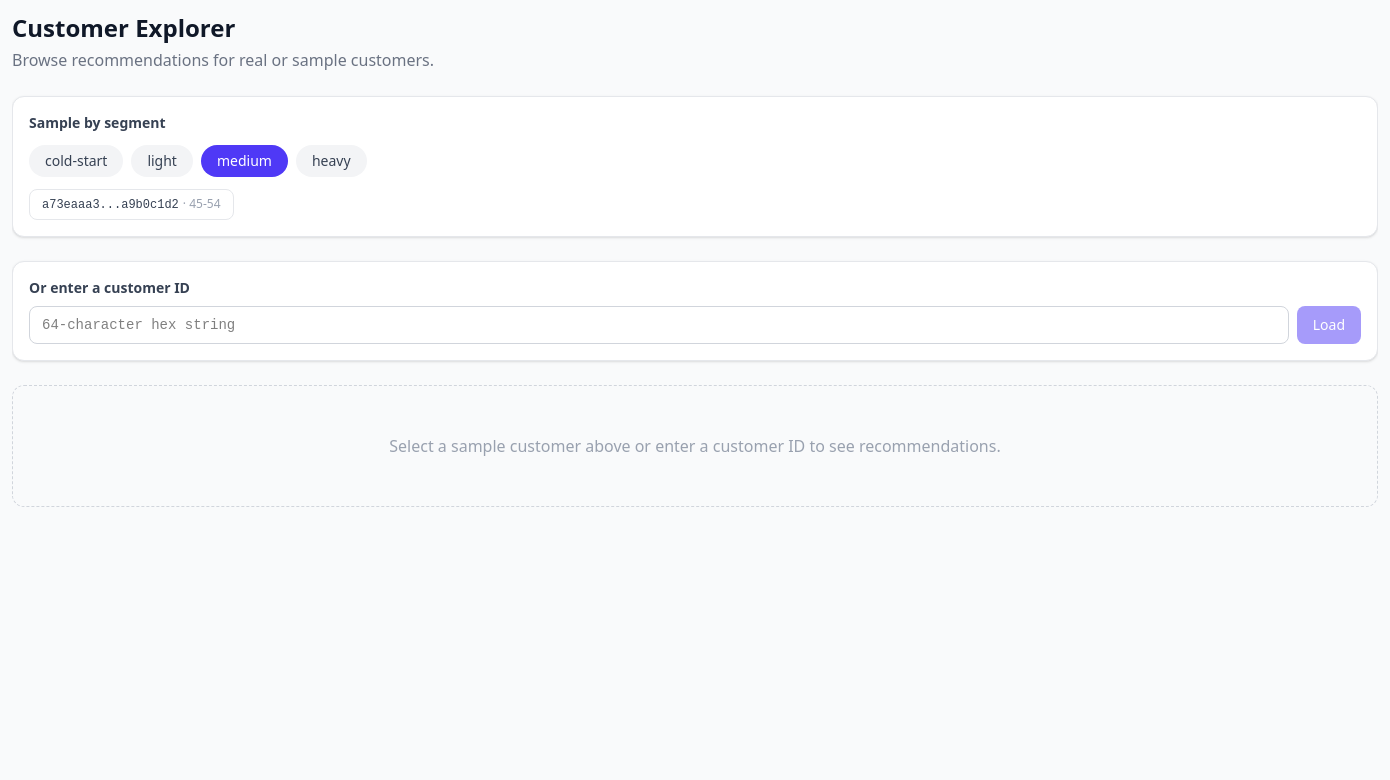
CustomerExplorer page › shows error state for recommendations
Click the button "a73eaaa3...a9b0c1d2· 45-54" at point(131, 204), box [29,189,234,220]
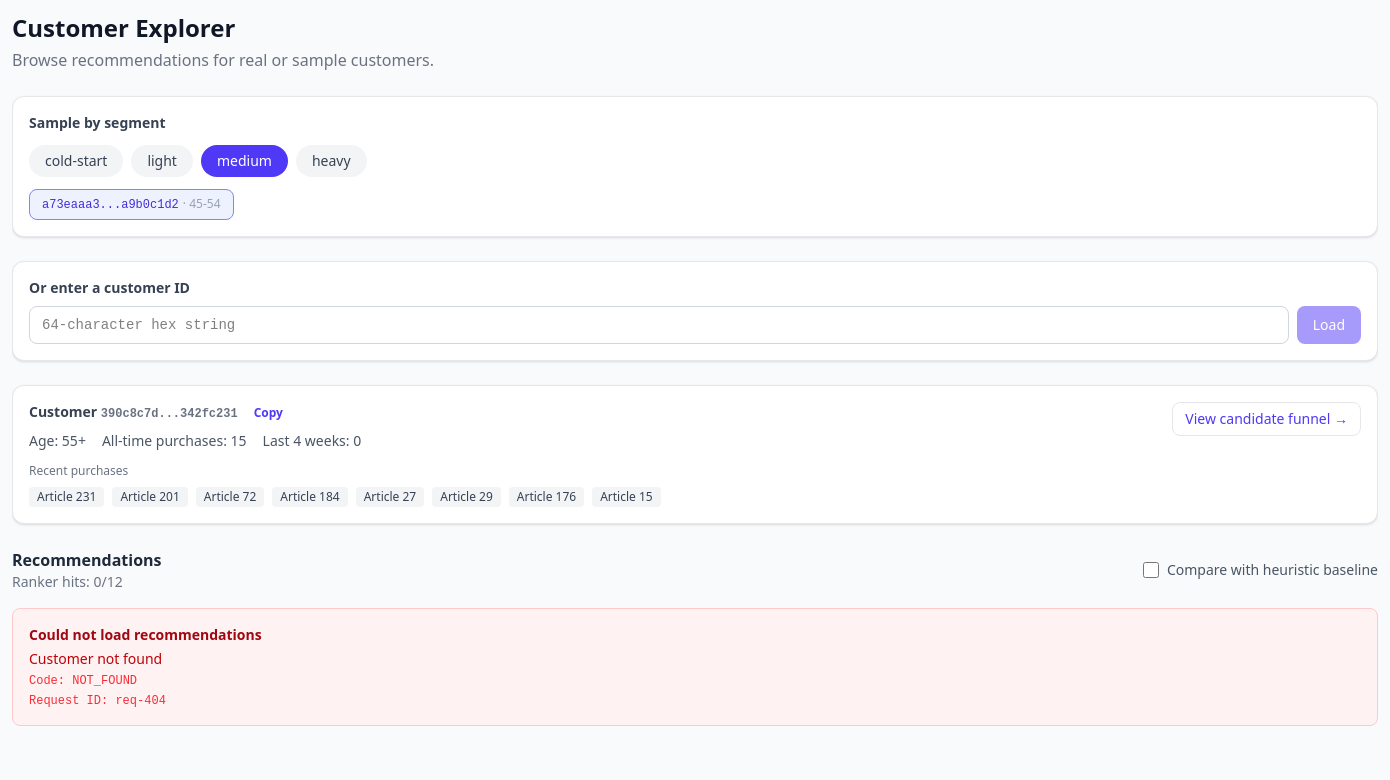
Expected: the text "Customer not found" is shown, [29,649,162,668]
Expected: the text "Request ID: req-404" is shown, [115,694,166,708]
